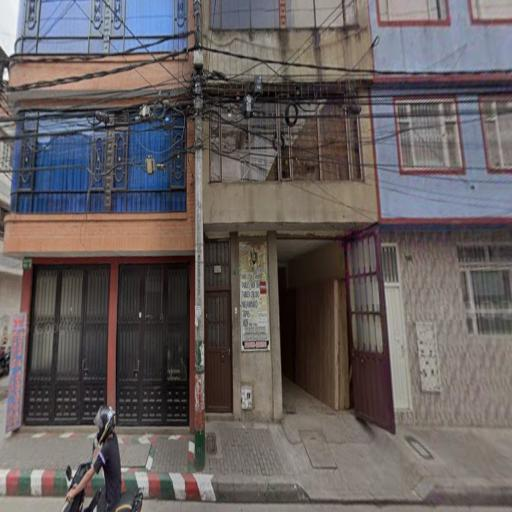Casa: (3, 0, 191, 436), (207, 0, 380, 436), (376, 3, 512, 431)
postes: (191, 0, 207, 480)
